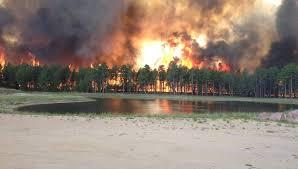fire: (104, 34, 227, 70)
yanwu: (2, 0, 298, 64)
